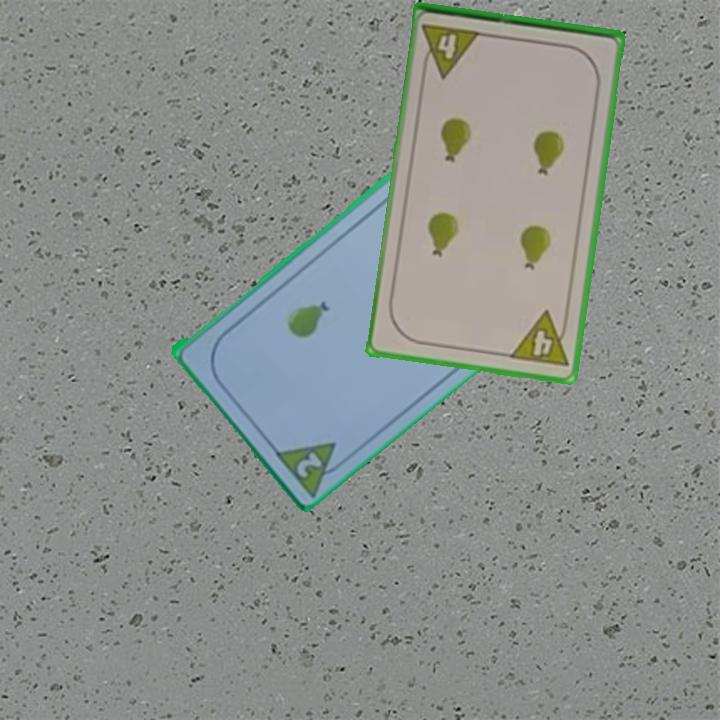2p: (292, 448, 326, 480)
4p: (506, 307, 572, 371), (418, 20, 484, 80)
